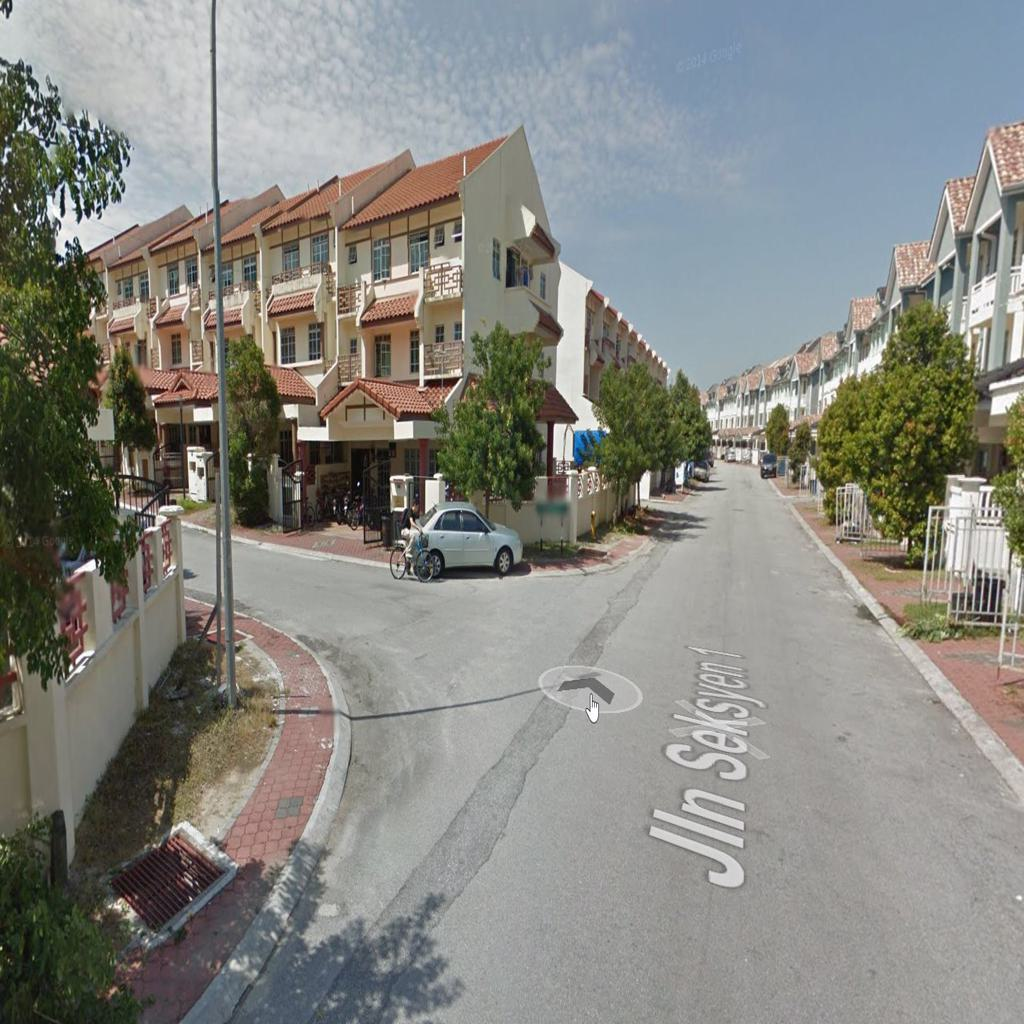Junction: (260, 545, 630, 787)
